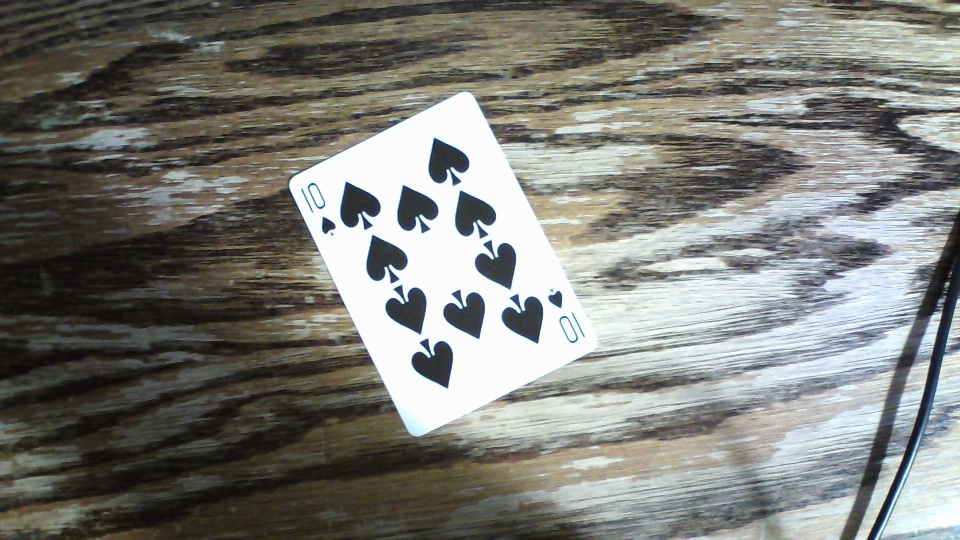ten: (286, 91, 600, 437)
